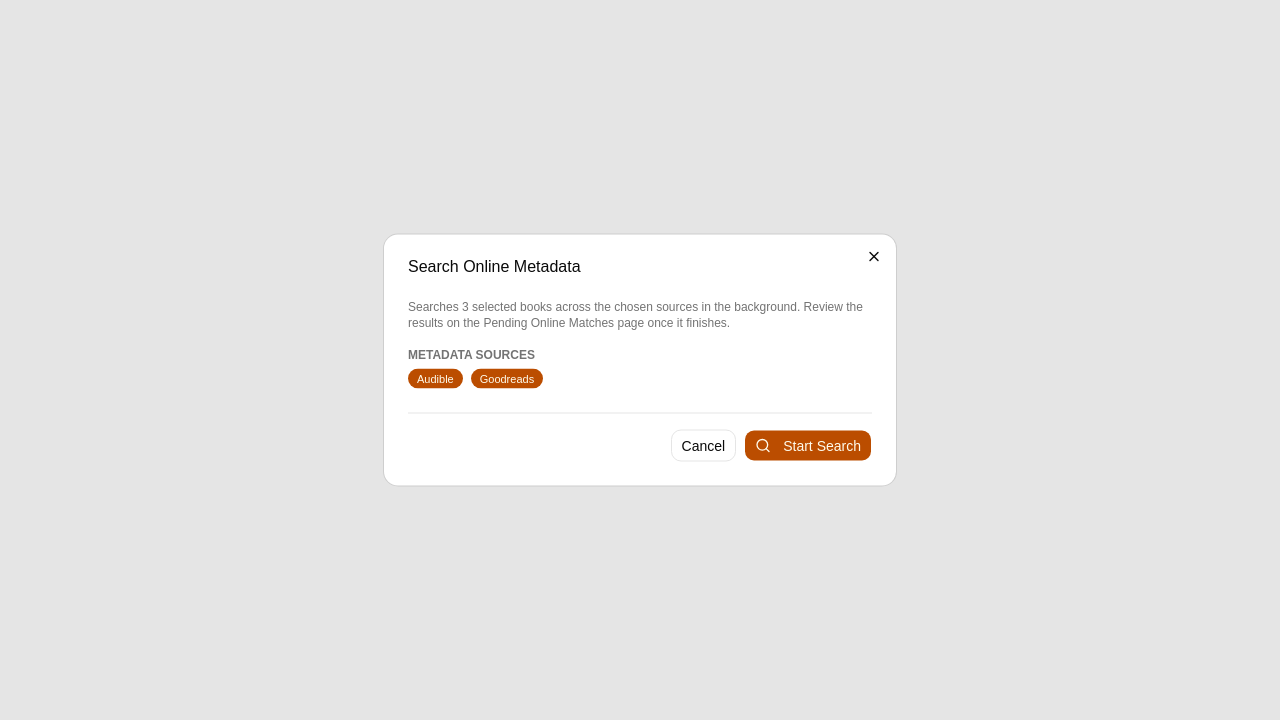
Test: BulkOnlineMatchSearchDialog › disables Start Search, rather than silently re-selecting every source, once the user toggles every source off
The width and height of the screenshot is (1280, 720).
Click the icon "Audible".
click(435, 378)  # box [408, 368, 463, 388]
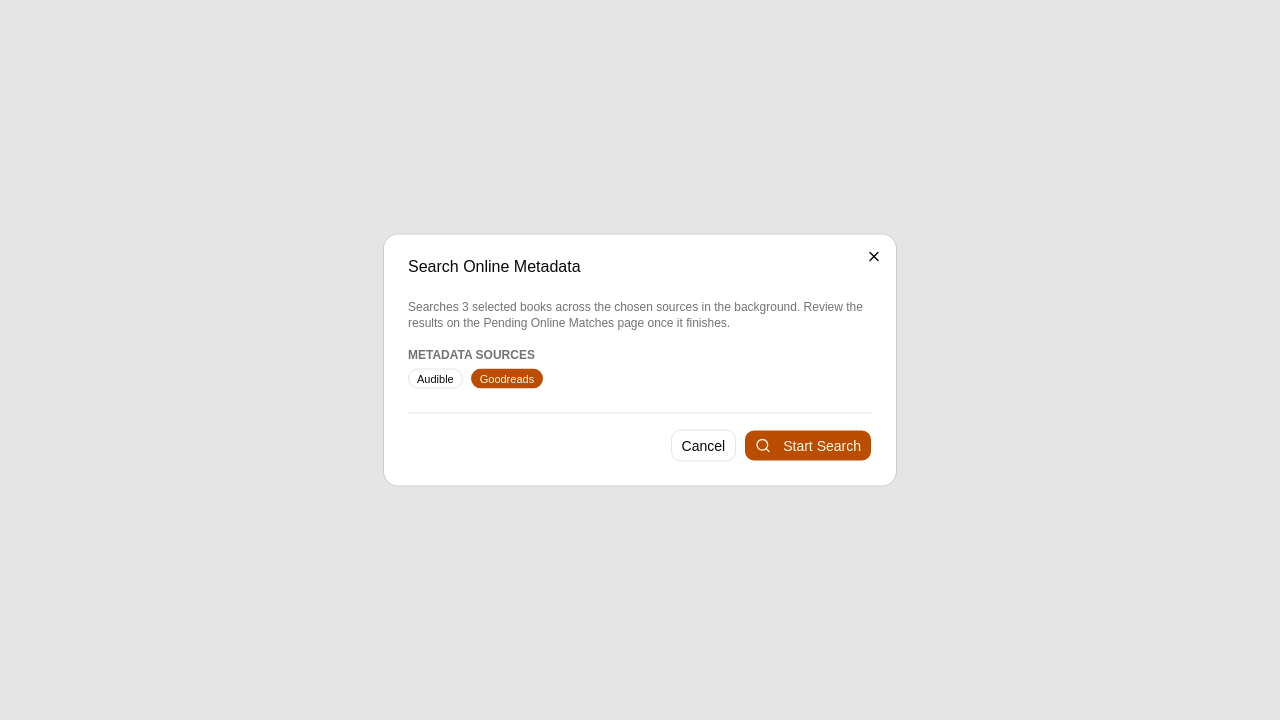
Click the text "Goodreads".
click(507, 378)  # box [471, 368, 543, 388]
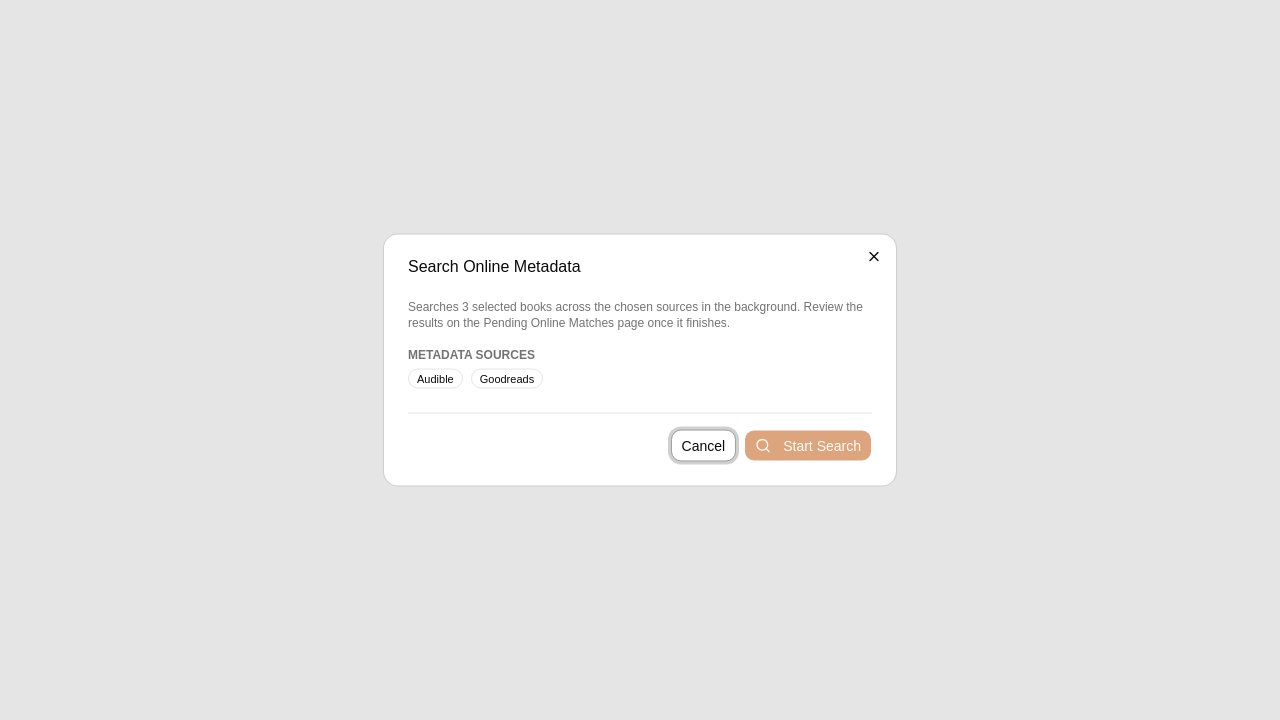
expect the button "Start Search" is disabled: met, box [744, 430, 872, 462]
